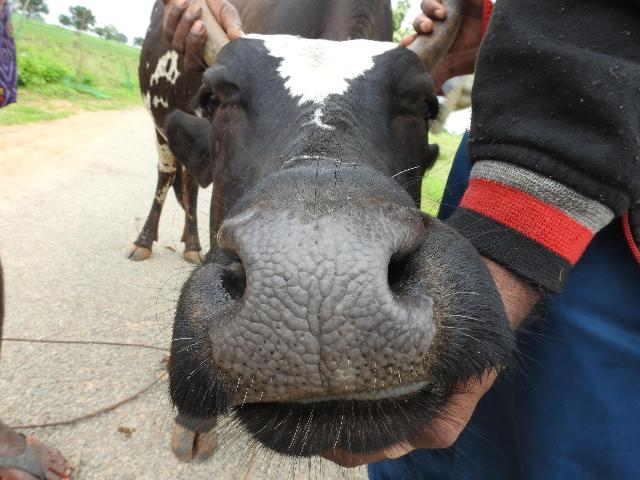Muzzle: (221, 207, 411, 392)
